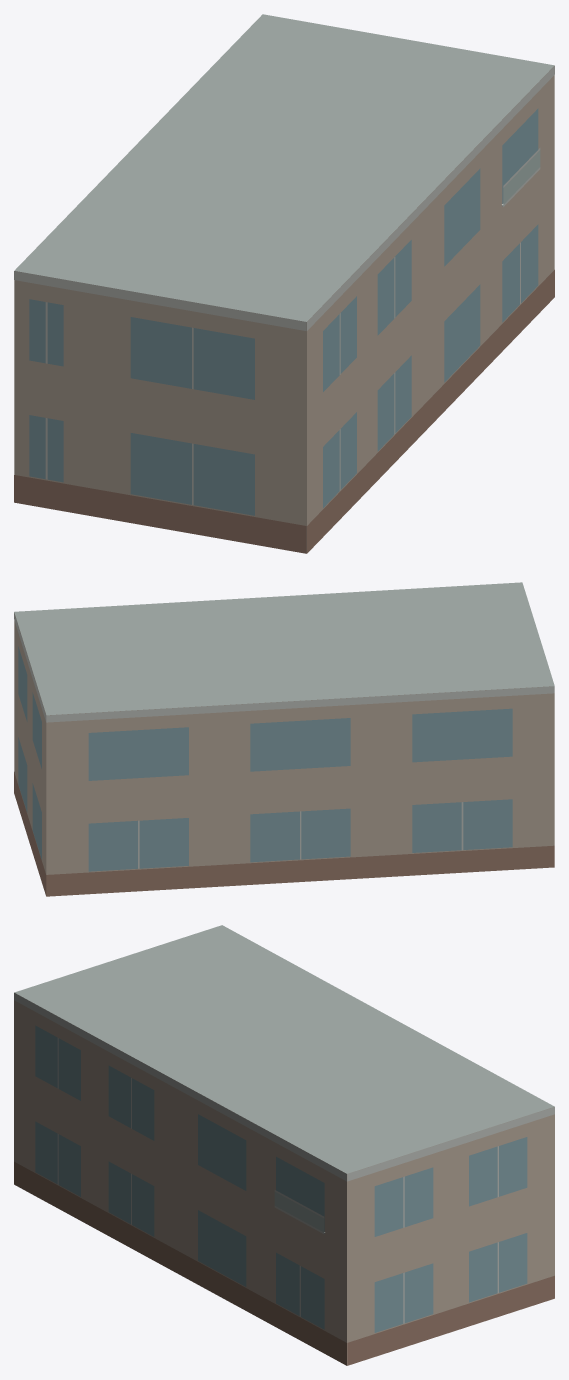
File: survey-upis-32817160.glb
The picture shows the model from 3 angles, top to bottom: view 1: azimuth 30°, elevation 25°; view 2: azimuth 150°, elevation 25°; view 3: azimuth 270°, elevation 25°; orthographic projection. The views are drawn at different scales.
Parts seen in each view (by area): view 1: survey-upis-32817160.tmp; view 2: survey-upis-32817160.tmp; view 3: survey-upis-32817160.tmp.
Boxes of the visible parts, box(x1,y1,x2,y2) form: survey-upis-32817160.tmp: box(14, 14, 554, 553); survey-upis-32817160.tmp: box(14, 582, 554, 896); survey-upis-32817160.tmp: box(14, 925, 554, 1365).
Bounding box in the file's own units: 16.98 × 6.1 × 15.58.
